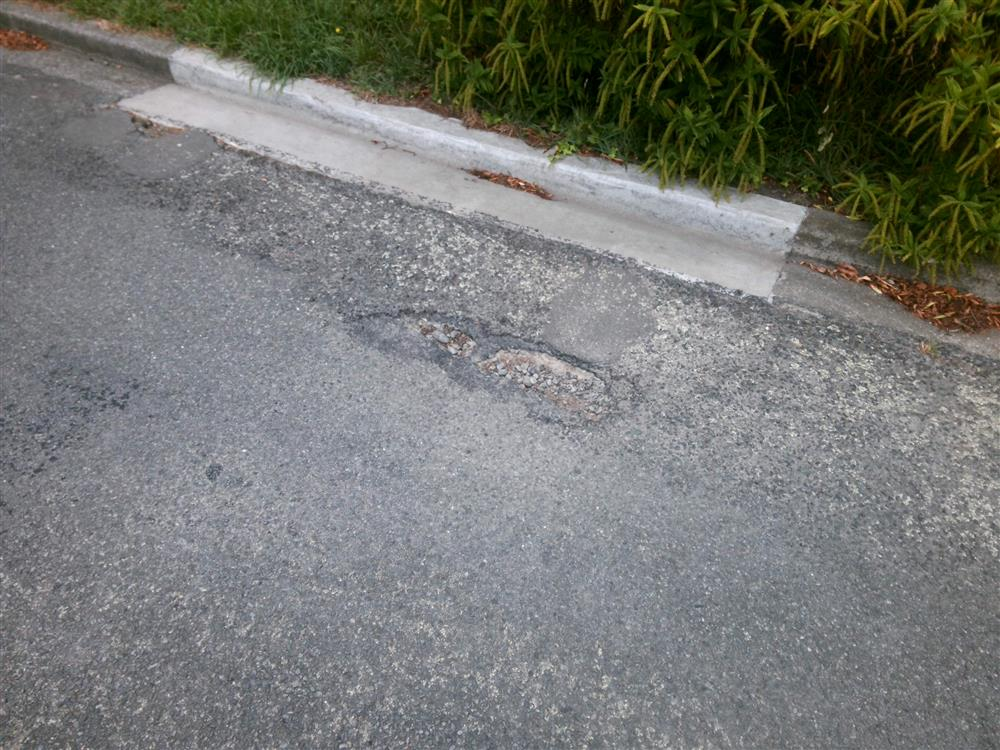pothole: (353, 297, 631, 433)
